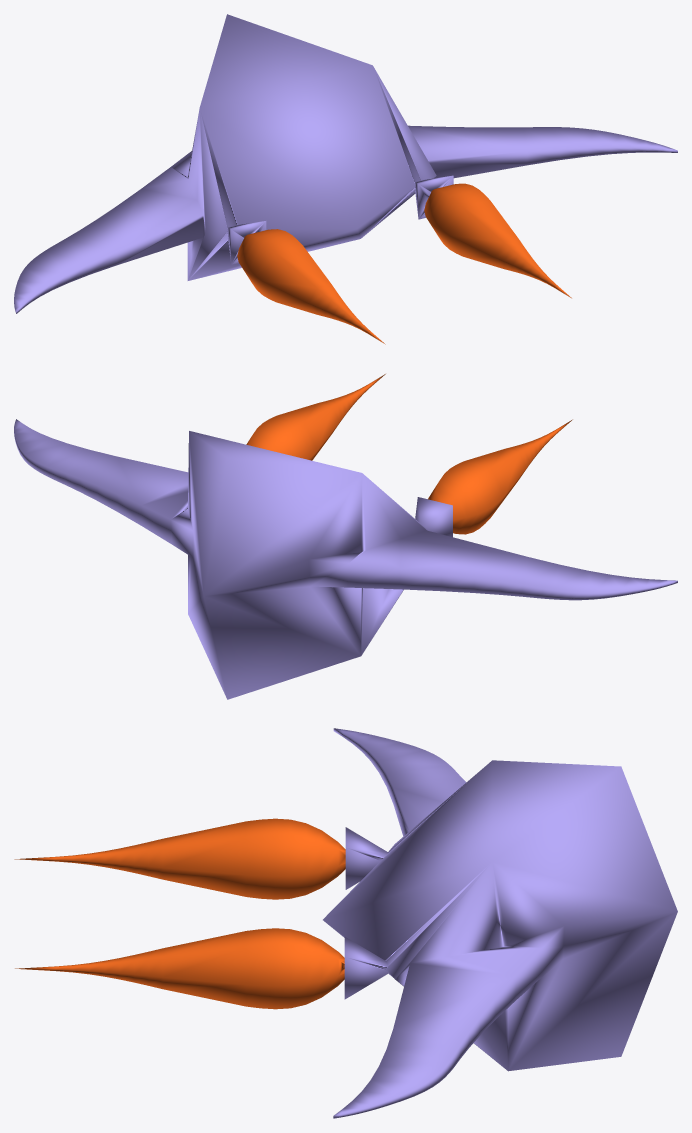
File: spaceship_v2.obj
3 views of the same model, one above another, from view 1: azimuth 30°, elevation 25°; view 2: azimuth 150°, elevation 25°; view 3: azimuth 270°, elevation 25° (orthographic). The views are drawn at different scales.
Parts seen in each view (by area): view 1: spaceship; view 2: spaceship; view 3: spaceship.
Part boxes in pixels (bbox=[...]): spaceship: bbox=[14, 14, 677, 344]; spaceship: bbox=[14, 374, 677, 699]; spaceship: bbox=[14, 728, 677, 1118].
Size of the model in its own units: 97.24 by 33.94 by 70.36.
